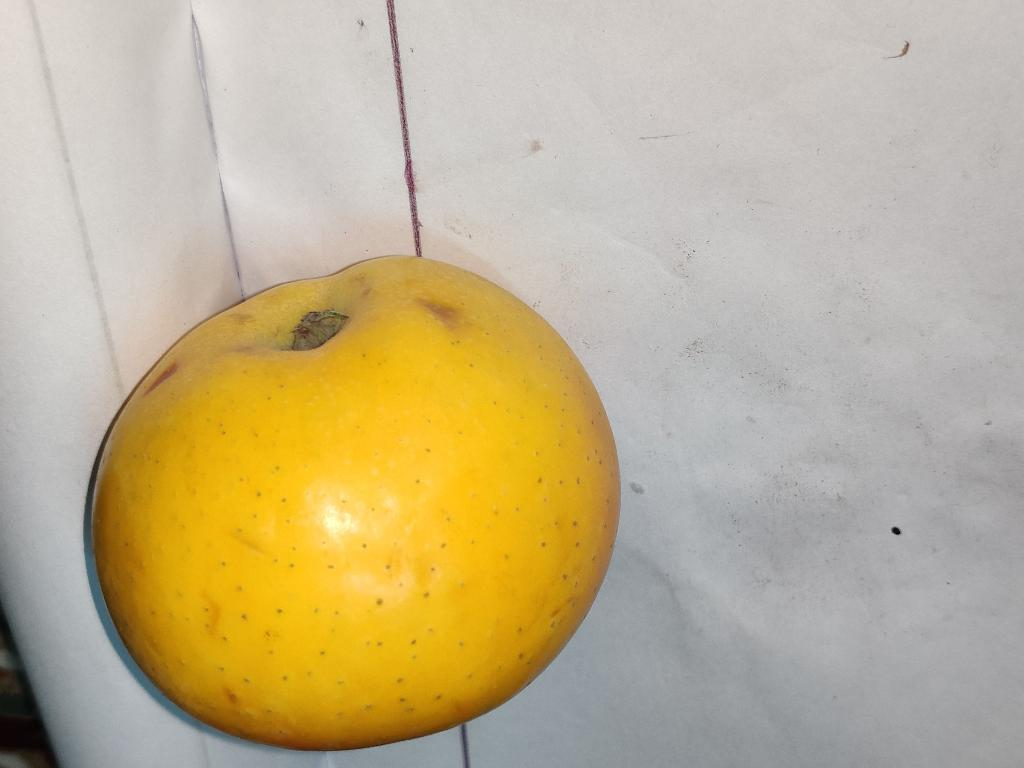apple: (92, 257, 619, 750)
surface_damage: (415, 297, 464, 332), (145, 363, 179, 396)
